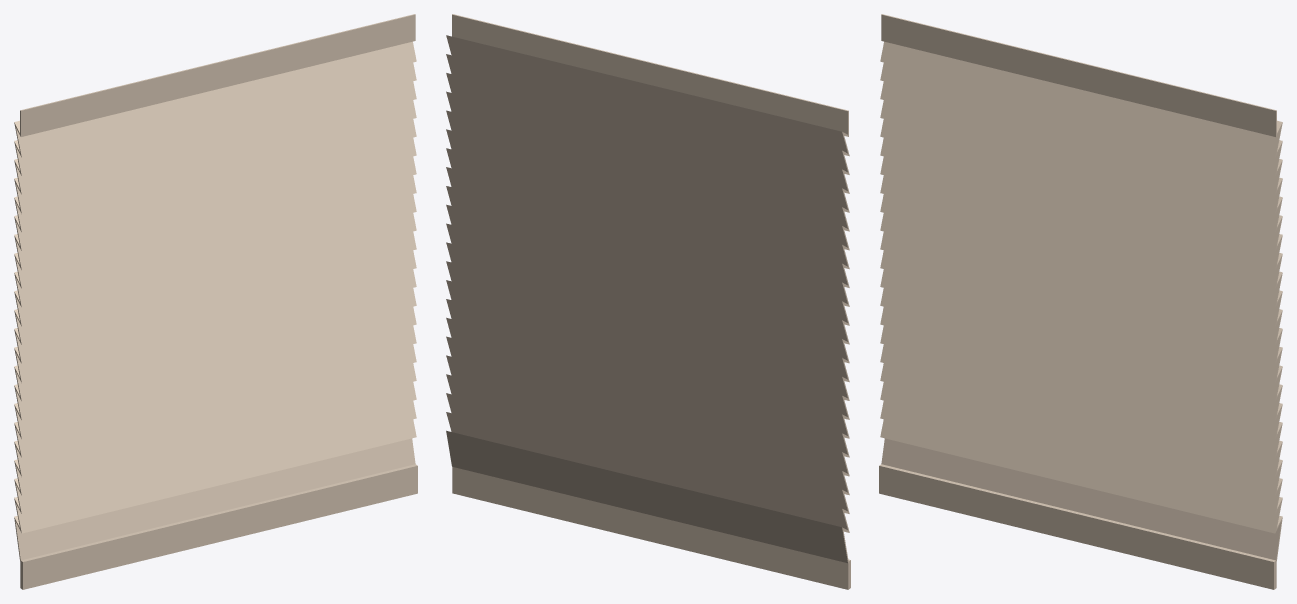
Rendered from 卷帘门.fbx.
3 renders of one model, left to right at view 1: azimuth 30°, elevation 25°; view 2: azimuth 150°, elevation 25°; view 3: azimuth 330°, elevation 25°, orthographic.
Visible parts, largest first — view 1: TEMPORARY_IMPORT_NAMESPACE__砹_门:polySurface1Sh, TEMPORARY_IMPORT_NAMESPACE__砹_门:polySurface2Sh; view 2: TEMPORARY_IMPORT_NAMESPACE__砹_门:polySurface1Sh, TEMPORARY_IMPORT_NAMESPACE__砹_门:polySurface2Sh; view 3: TEMPORARY_IMPORT_NAMESPACE__砹_门:polySurface1Sh, TEMPORARY_IMPORT_NAMESPACE__砹_门:polySurface2Sh.
Boxes of the visible parts, <box> form: TEMPORARY_IMPORT_NAMESPACE__砹_门:polySurface1Sh: <box>14,14,416,561</box>; TEMPORARY_IMPORT_NAMESPACE__砹_门:polySurface2Sh: <box>20,464,417,589</box>; TEMPORARY_IMPORT_NAMESPACE__砹_门:polySurface1Sh: <box>446,14,849,563</box>; TEMPORARY_IMPORT_NAMESPACE__砹_门:polySurface2Sh: <box>452,467,850,589</box>; TEMPORARY_IMPORT_NAMESPACE__砹_门:polySurface1Sh: <box>880,14,1282,561</box>; TEMPORARY_IMPORT_NAMESPACE__砹_门:polySurface2Sh: <box>879,464,1276,589</box>.
Bounding box in the file's own units: 220 × 254 × 8.5.
1 material, 1 textured.
